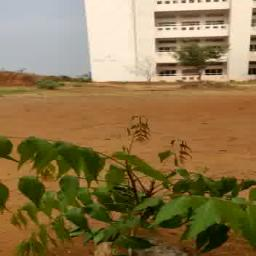Azadiractha Indica: (8, 126, 254, 255)
